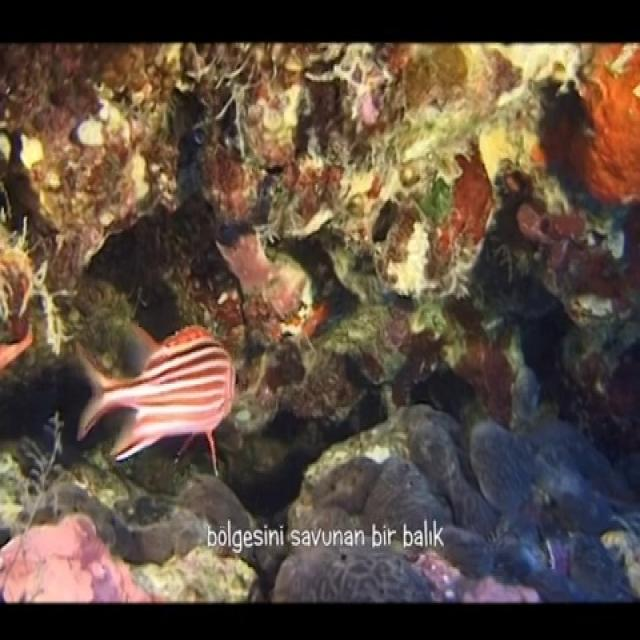Asker Baligi: (72, 320, 237, 478)
